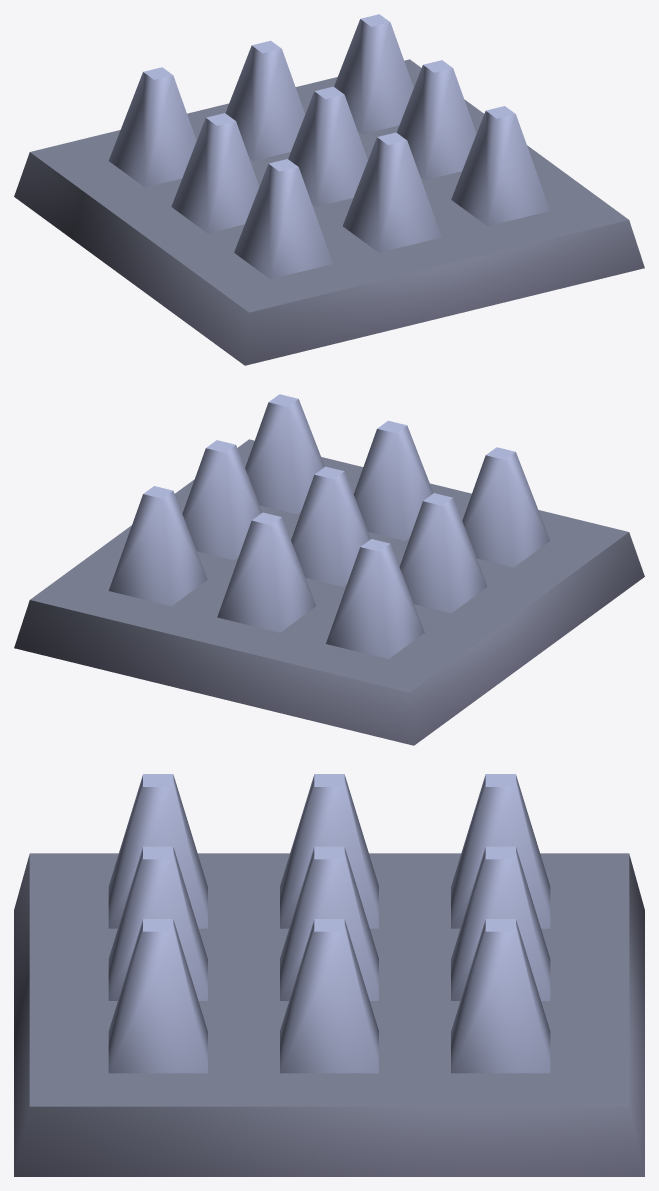
File: trap-spikes-large.glb
The picture shows the model from 3 angles, top to bottom: view 1: azimuth 30°, elevation 25°; view 2: azimuth 150°, elevation 25°; view 3: azimuth 270°, elevation 25°; orthographic projection. The views are drawn at different scales.
Parts seen in each view (by area): view 1: trap-spikes-large, spikes; view 2: trap-spikes-large, spikes; view 3: trap-spikes-large, spikes.
Part boxes in pixels (x1=…): trap-spikes-large: x1=14, y1=59, x2=644, y2=365; spikes: x1=108, y1=14, x2=550, y2=279; trap-spikes-large: x1=14, y1=439, x2=644, y2=745; spikes: x1=108, y1=394, x2=550, y2=659; trap-spikes-large: x1=14, y1=853, x2=644, y2=1176; spikes: x1=108, y1=774, x2=550, y2=1073.
Bounding box in the file's own units: 0.765 × 0.255 × 0.765.
Materials: 1 (1 with a texture image).
